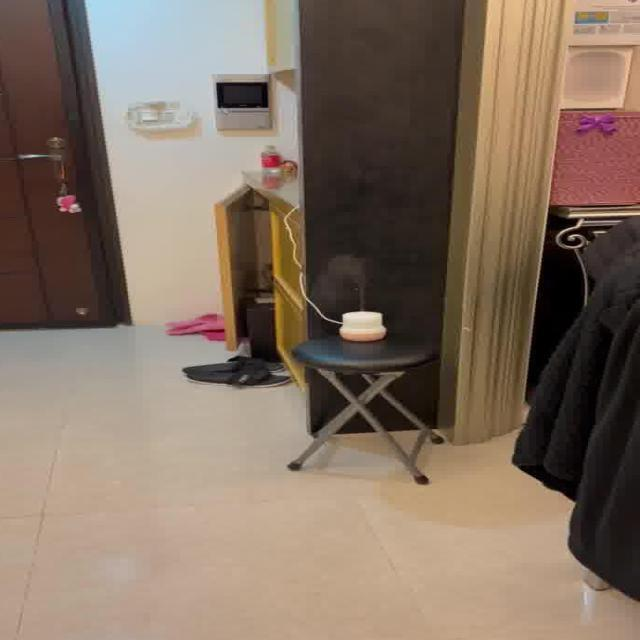fire: (314, 255, 373, 300)
